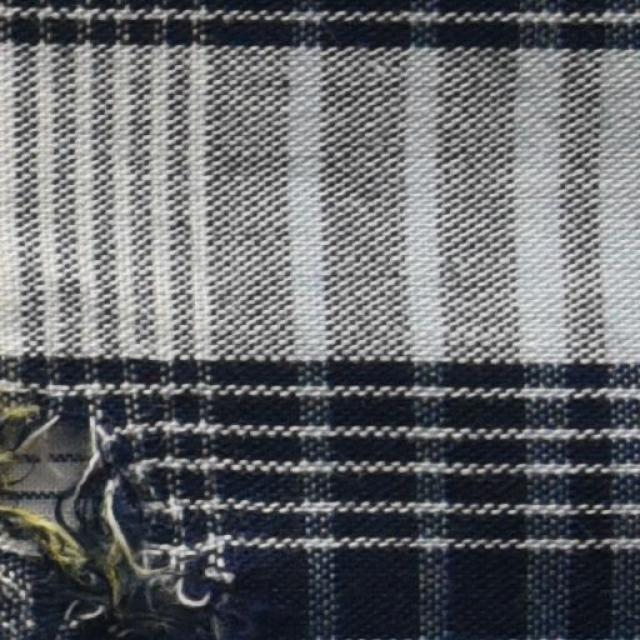Hole: (6, 427, 91, 520)
Snag: (47, 438, 247, 639)
Stain: (0, 391, 118, 564)
